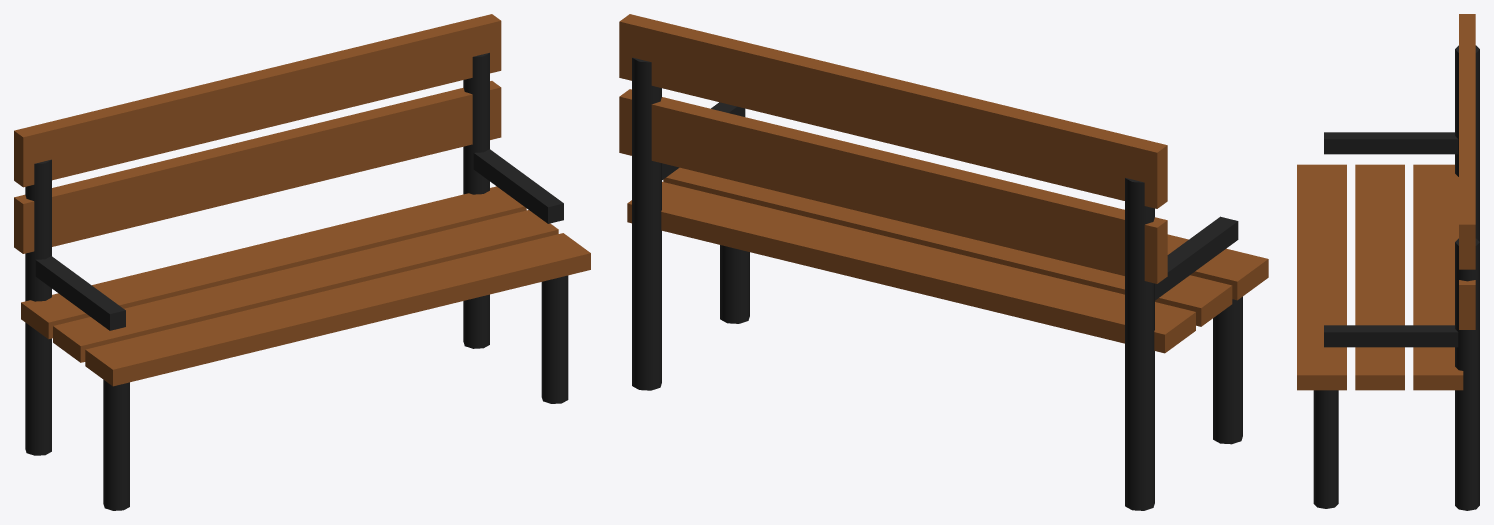
File: bench.glb
3 views of the same model, side by side, from view 1: azimuth 30°, elevation 25°; view 2: azimuth 150°, elevation 25°; view 3: azimuth 270°, elevation 25° (orthographic). The views are drawn at different scales.
Visible parts, largest first — view 1: bench; view 2: bench; view 3: bench.
Boxes of the visible parts, x1=… form: bench: x1=14, y1=14, x2=590, y2=510; bench: x1=619, y1=14, x2=1268, y2=510; bench: x1=1297, y1=14, x2=1479, y2=510.
Size of the model in its own units: 1.2 by 0.77 by 0.44.
